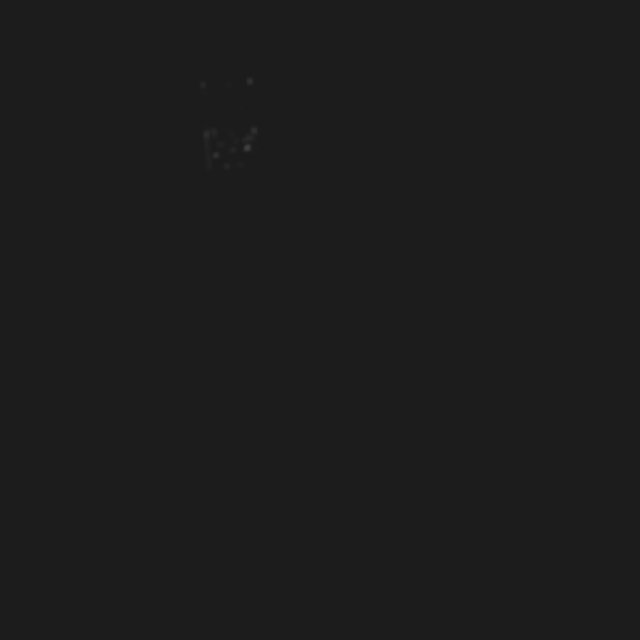medium_debris: (177, 62, 275, 185)
